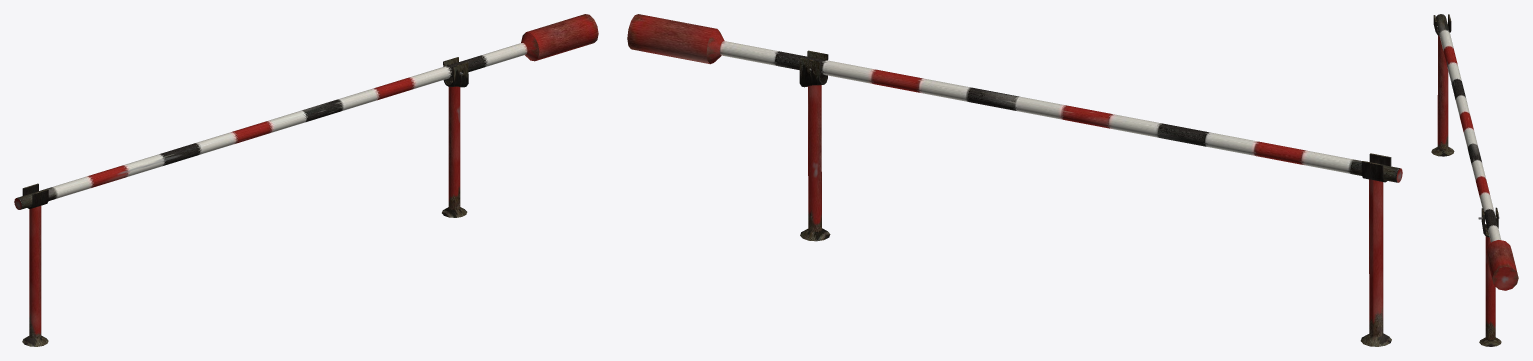
Rendered from shlag.FBX.
3 renders of one model, left to right at view 1: azimuth 30°, elevation 25°; view 2: azimuth 150°, elevation 25°; view 3: azimuth 270°, elevation 25°, orthographic. The views are drawn at different scales.
Parts seen in each view (by area): view 1: obj399; view 2: obj399; view 3: obj399.
Part boxes in pixels (x1=…): obj399: x1=14, y1=14, x2=598, y2=346; obj399: x1=627, y1=14, x2=1402, y2=346; obj399: x1=1431, y1=14, x2=1518, y2=346.
Bounding box in the file's own units: 24.1 × 5.9 × 3.42.
